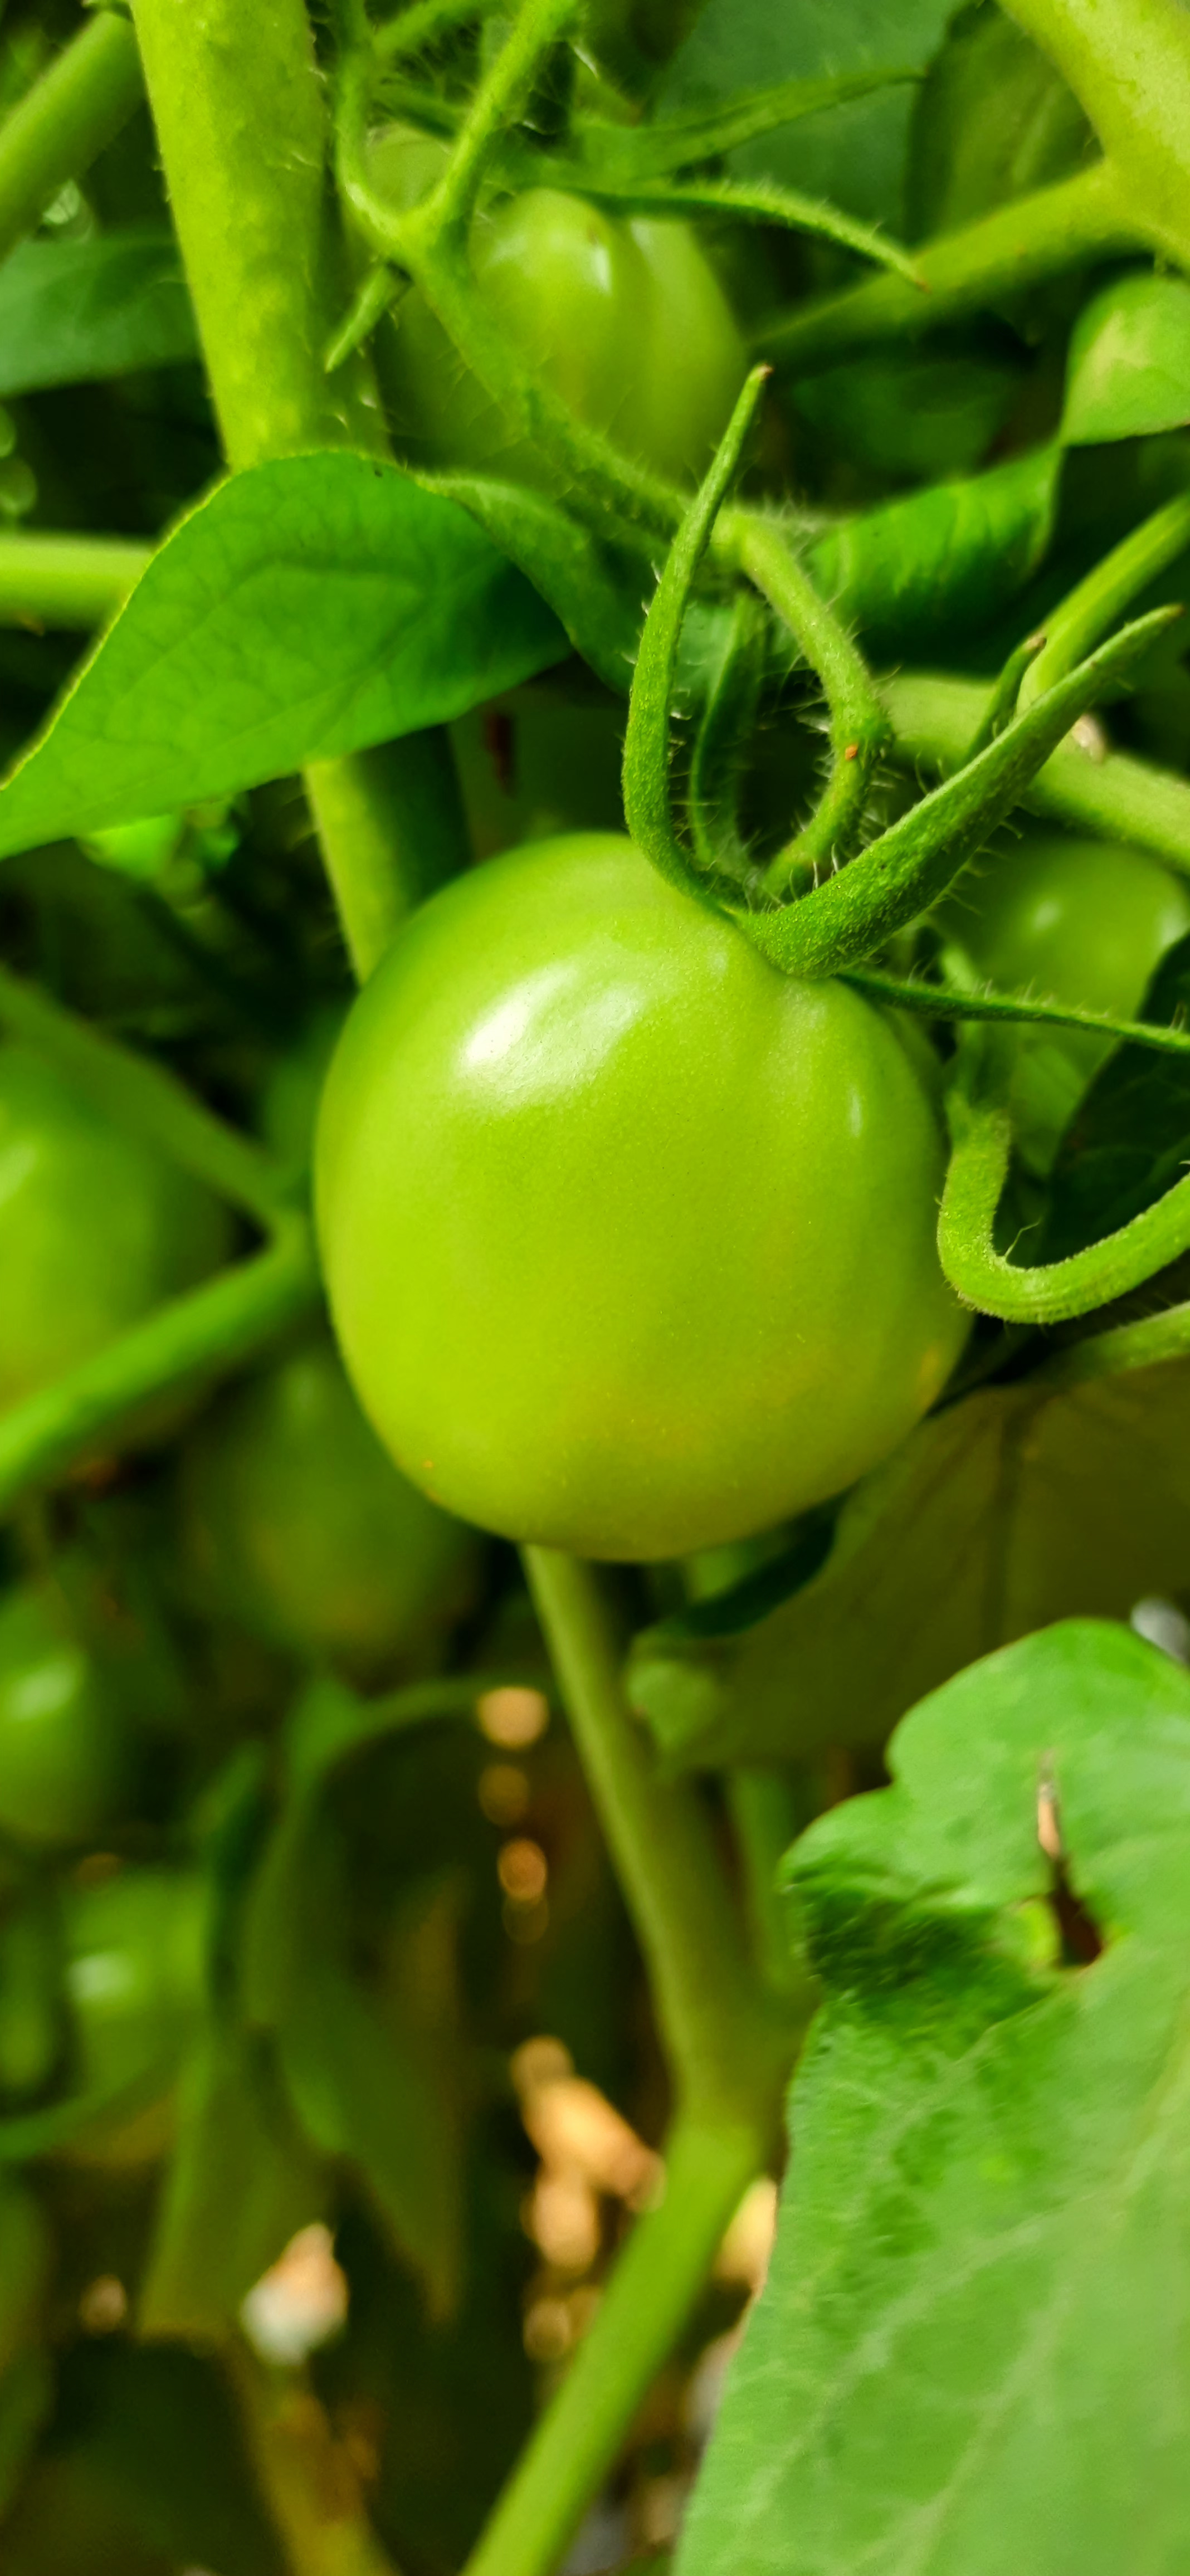raw_tomato: (327, 761, 971, 1569)
